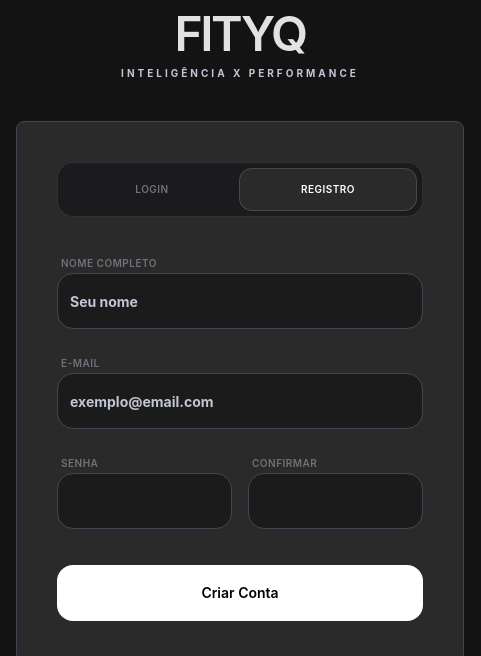
Test: LoginPage › should show duplicate email guidance when register fails with existing user
This screenshot has width=481, height=656.
Type "Fresh User" into the field with placeholder "Seu nome" at (240, 301), box 57,273 -> 423,329
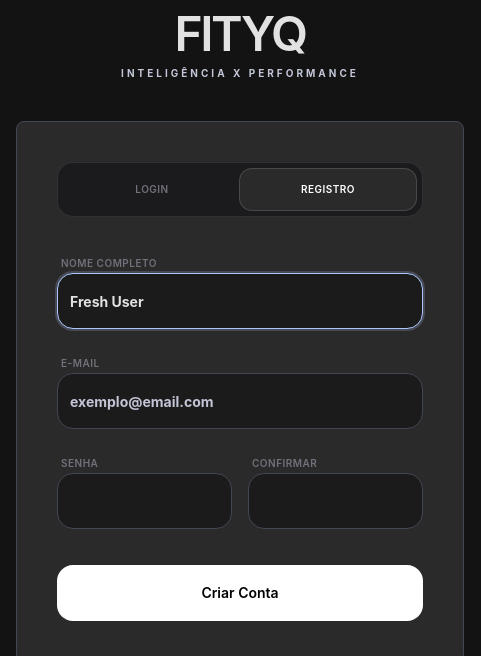
Type "fresh@example.com" into the field with placeholder "exemplo@email.com" at (240, 401), box 57,373 -> 423,429
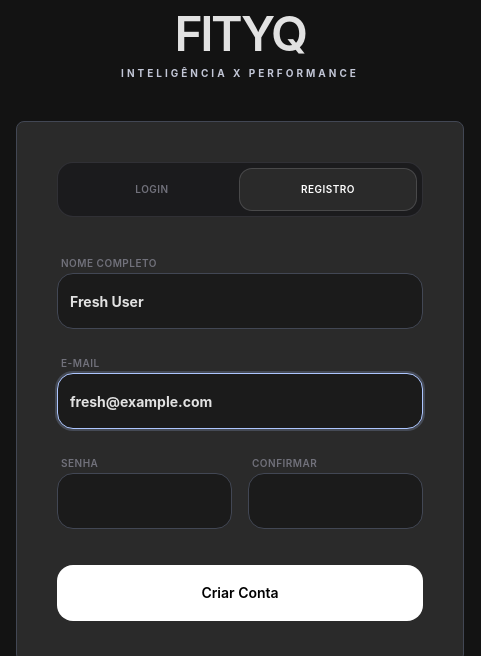
Type "password123" into the password field below "Senha" at (144, 501), box 57,473 -> 232,529
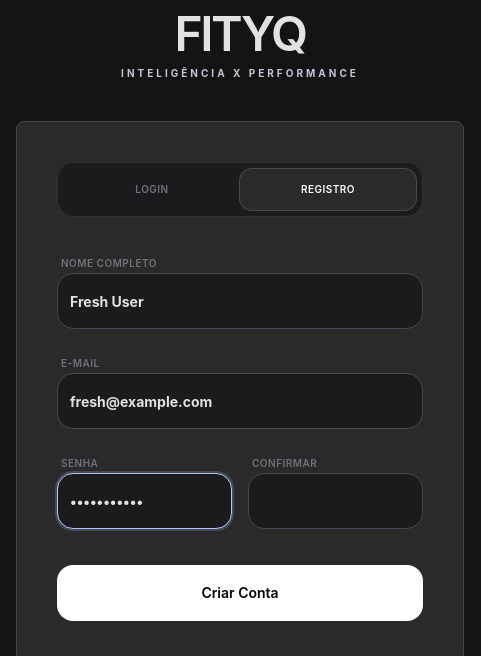
Type "password123" into the password field below "Confirmar" at (336, 501), box 248,473 -> 423,529
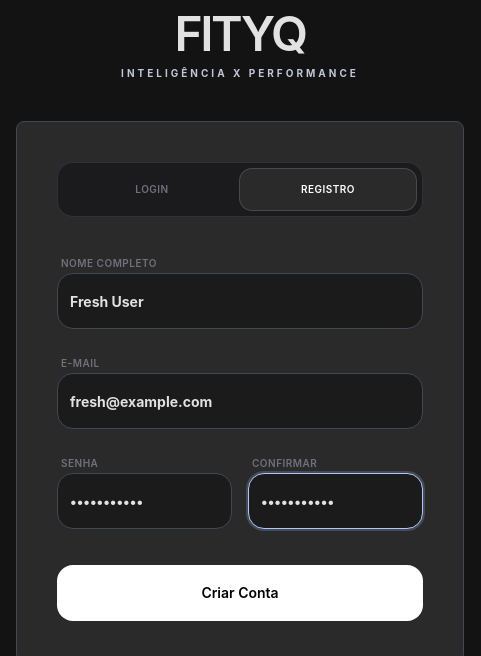
Click the button "Criar Conta" at (240, 593), box 57,565 -> 423,621
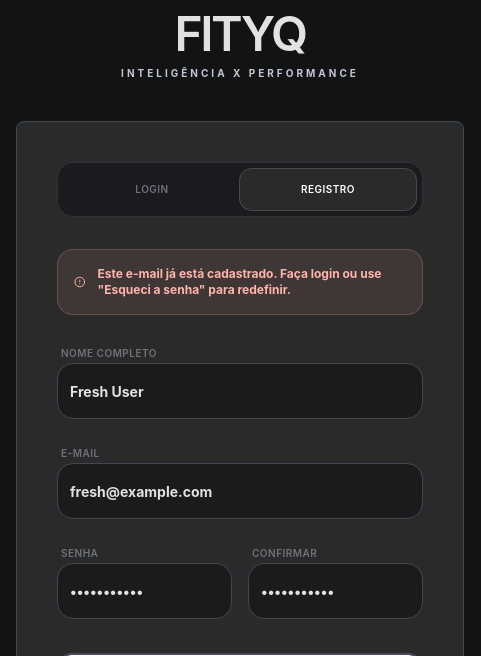
Expected: the text "Este e-mail já está cadastrado" is shown, 98,266 -> 382,297
